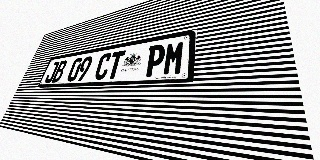0: (66, 57, 84, 82)
9: (75, 56, 94, 81)
B: (51, 60, 68, 83)
C: (93, 52, 113, 80)
J: (44, 61, 60, 83)
M: (162, 40, 186, 76)
P: (144, 43, 166, 77)
T: (105, 50, 126, 79)
